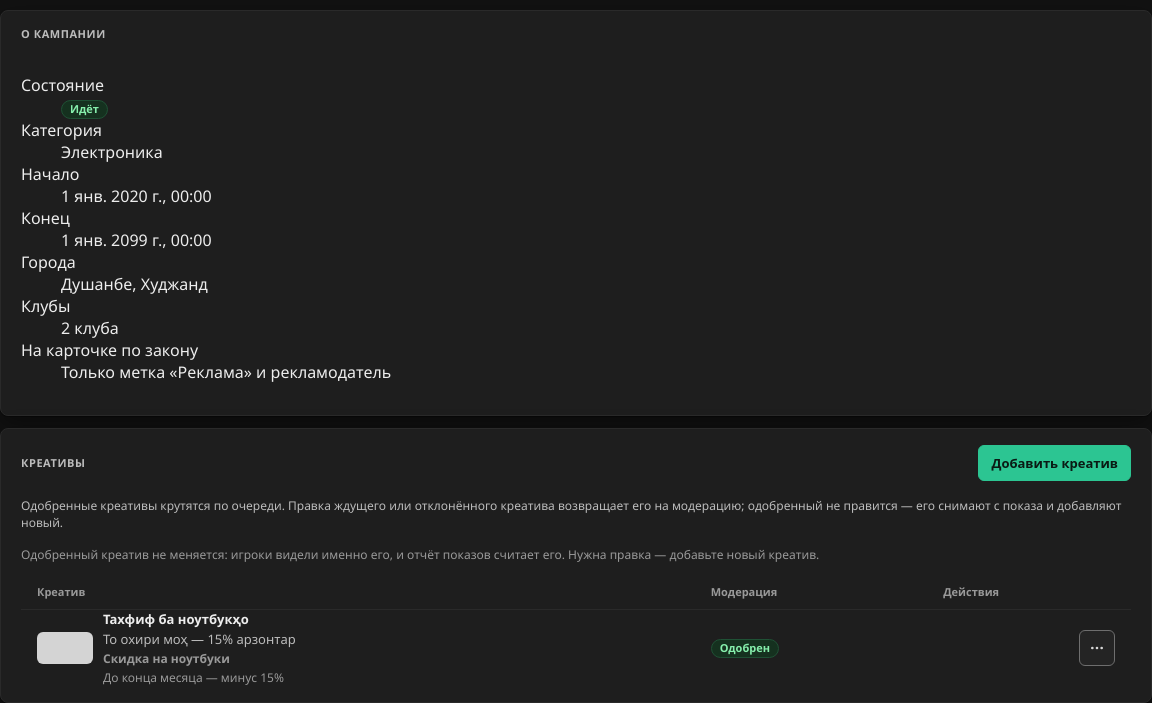
Test: AdCampaignPage › одобренный креатив не правится и объясняет почему; «Снять с показа» снимает его
(page scrolled)
Expected: the text "Тахфиф ба ноутбукҳо" is shown, [103, 610, 249, 628]
Expected: the text "Одобренный креатив не меняется: игроки видели именно его, и отчёт показов считает его. Нужна правка — добавьте новый кре" is shown, [21, 546, 819, 563]
Click the button named "Ещё действия" at (1097, 648), box [1079, 630, 1115, 666]
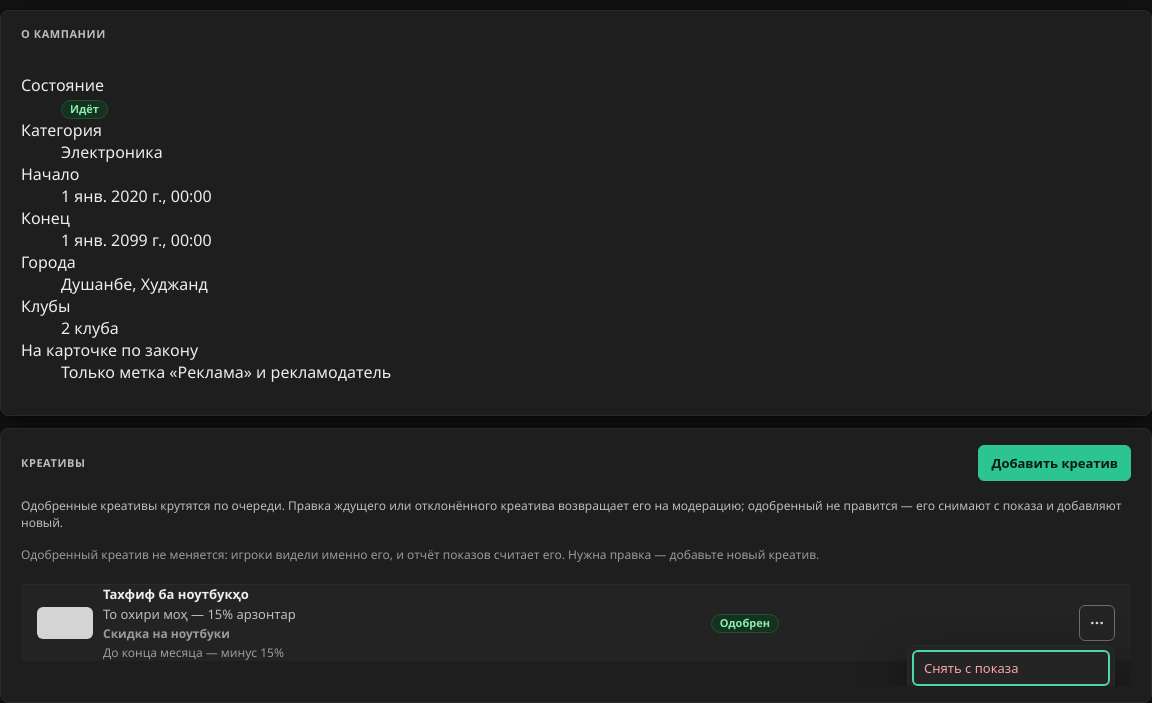
Click the menu item "Снять с показа" at (1011, 668), box [912, 650, 1110, 686]
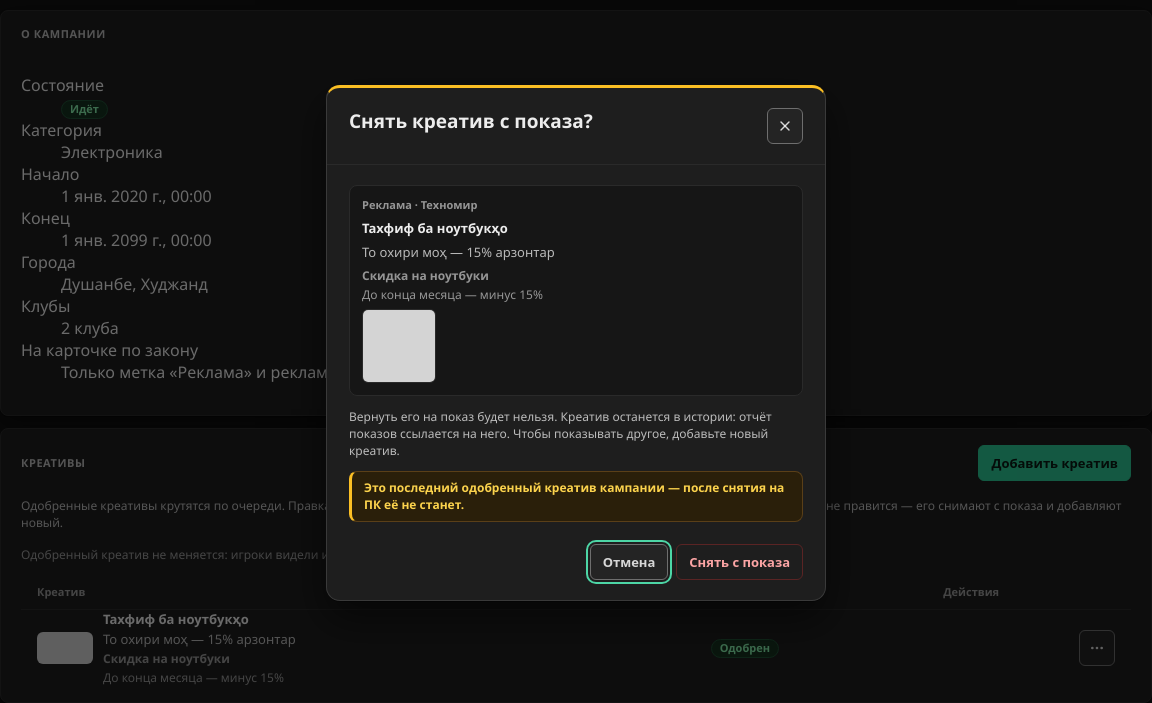
Result: the dialog "Снять креатив с показа?" shows "Вернуть его на показ будет нельзя" at [349, 408, 772, 459]
Result: the dialog "Снять креатив с показа?" shows "Это последний одобренный креатив кампании" at [364, 479, 784, 512]
Click the button "Снять с показа" at (740, 562), box [676, 544, 803, 580]
(page scrolled)
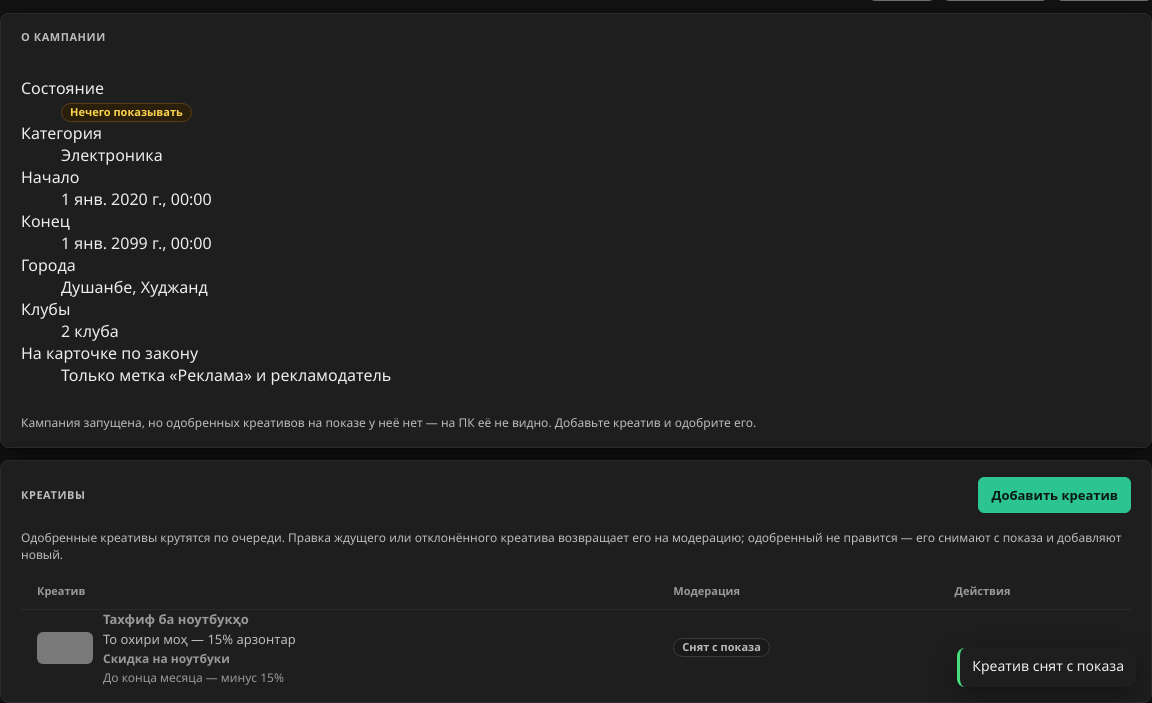
Result: the dialog is gone
Result: the text "Снят с показа" is shown at [673, 638, 770, 657]
Result: no the button "Отмена" are shown
